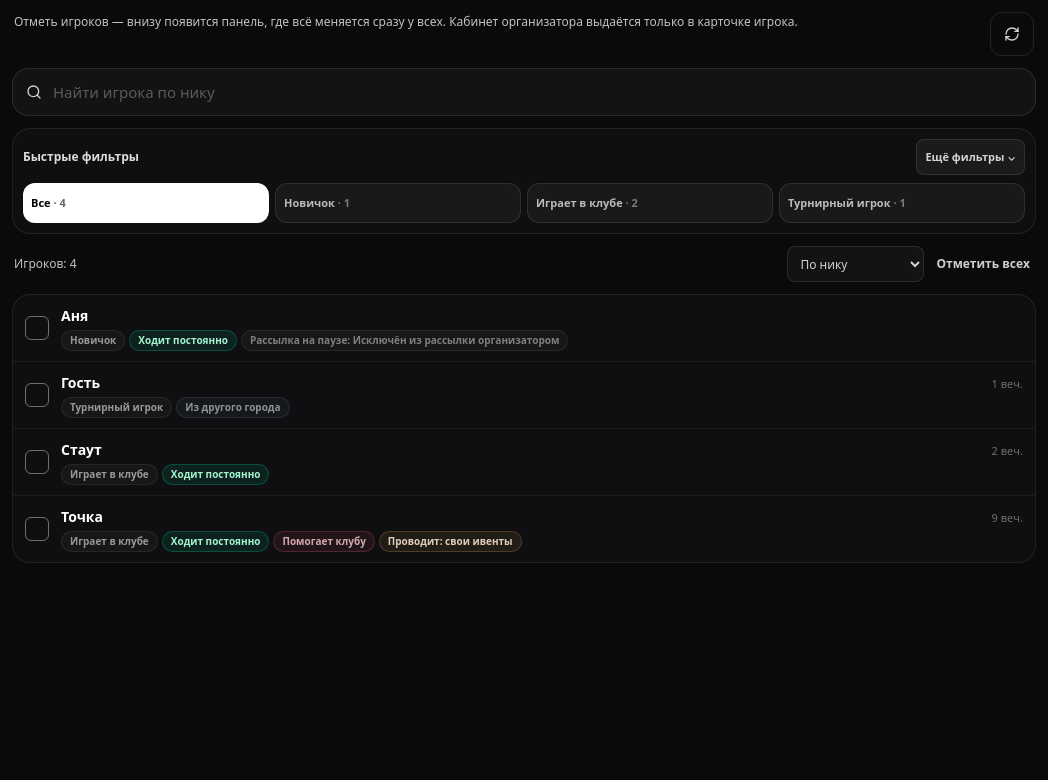
Test case: «Уровни и роли» › a player from another city gets only the level and rating judging
This screenshot has width=1048, height=780.
What coordinates should you click on to do the following:
click the text "Гость"
I would click on:
 (81, 382)
Its box is [61,373,100,392].
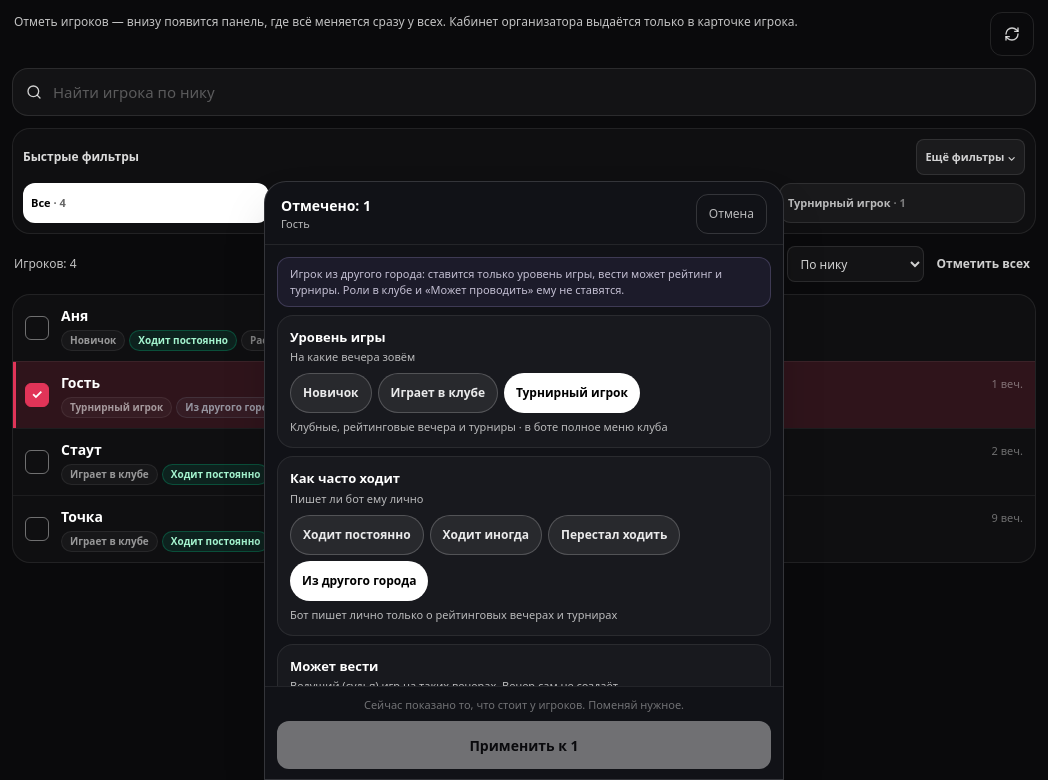
expect the text with test id "crm-access-bulk-other-city" is shown: met, box [277,257,771,307]
